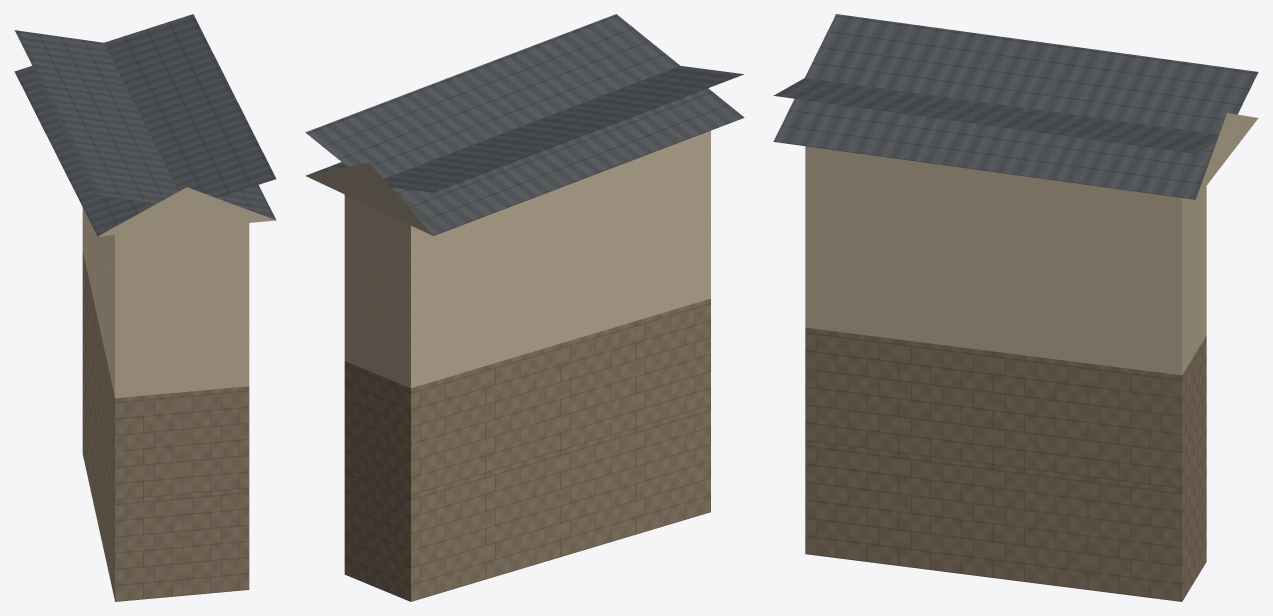
Rendered from bld_c34_-28_451.gltf.
The picture shows the model from 3 angles, left to right: view 1: azimuth 30°, elevation 25°; view 2: azimuth 150°, elevation 25°; view 3: azimuth 270°, elevation 25°; orthographic projection. The views are drawn at different scales.
Visible parts, largest first — view 1: bld_c34_-28_451; view 2: bld_c34_-28_451; view 3: bld_c34_-28_451.
Part boxes in pixels (x1,y1,x2,y2): bld_c34_-28_451: (14,14,276,601); bld_c34_-28_451: (305,14,744,601); bld_c34_-28_451: (773,14,1258,601).
Bounding box in the file's own units: 6.51 × 10.1 × 9.55.
4 materials, 4 textured.
